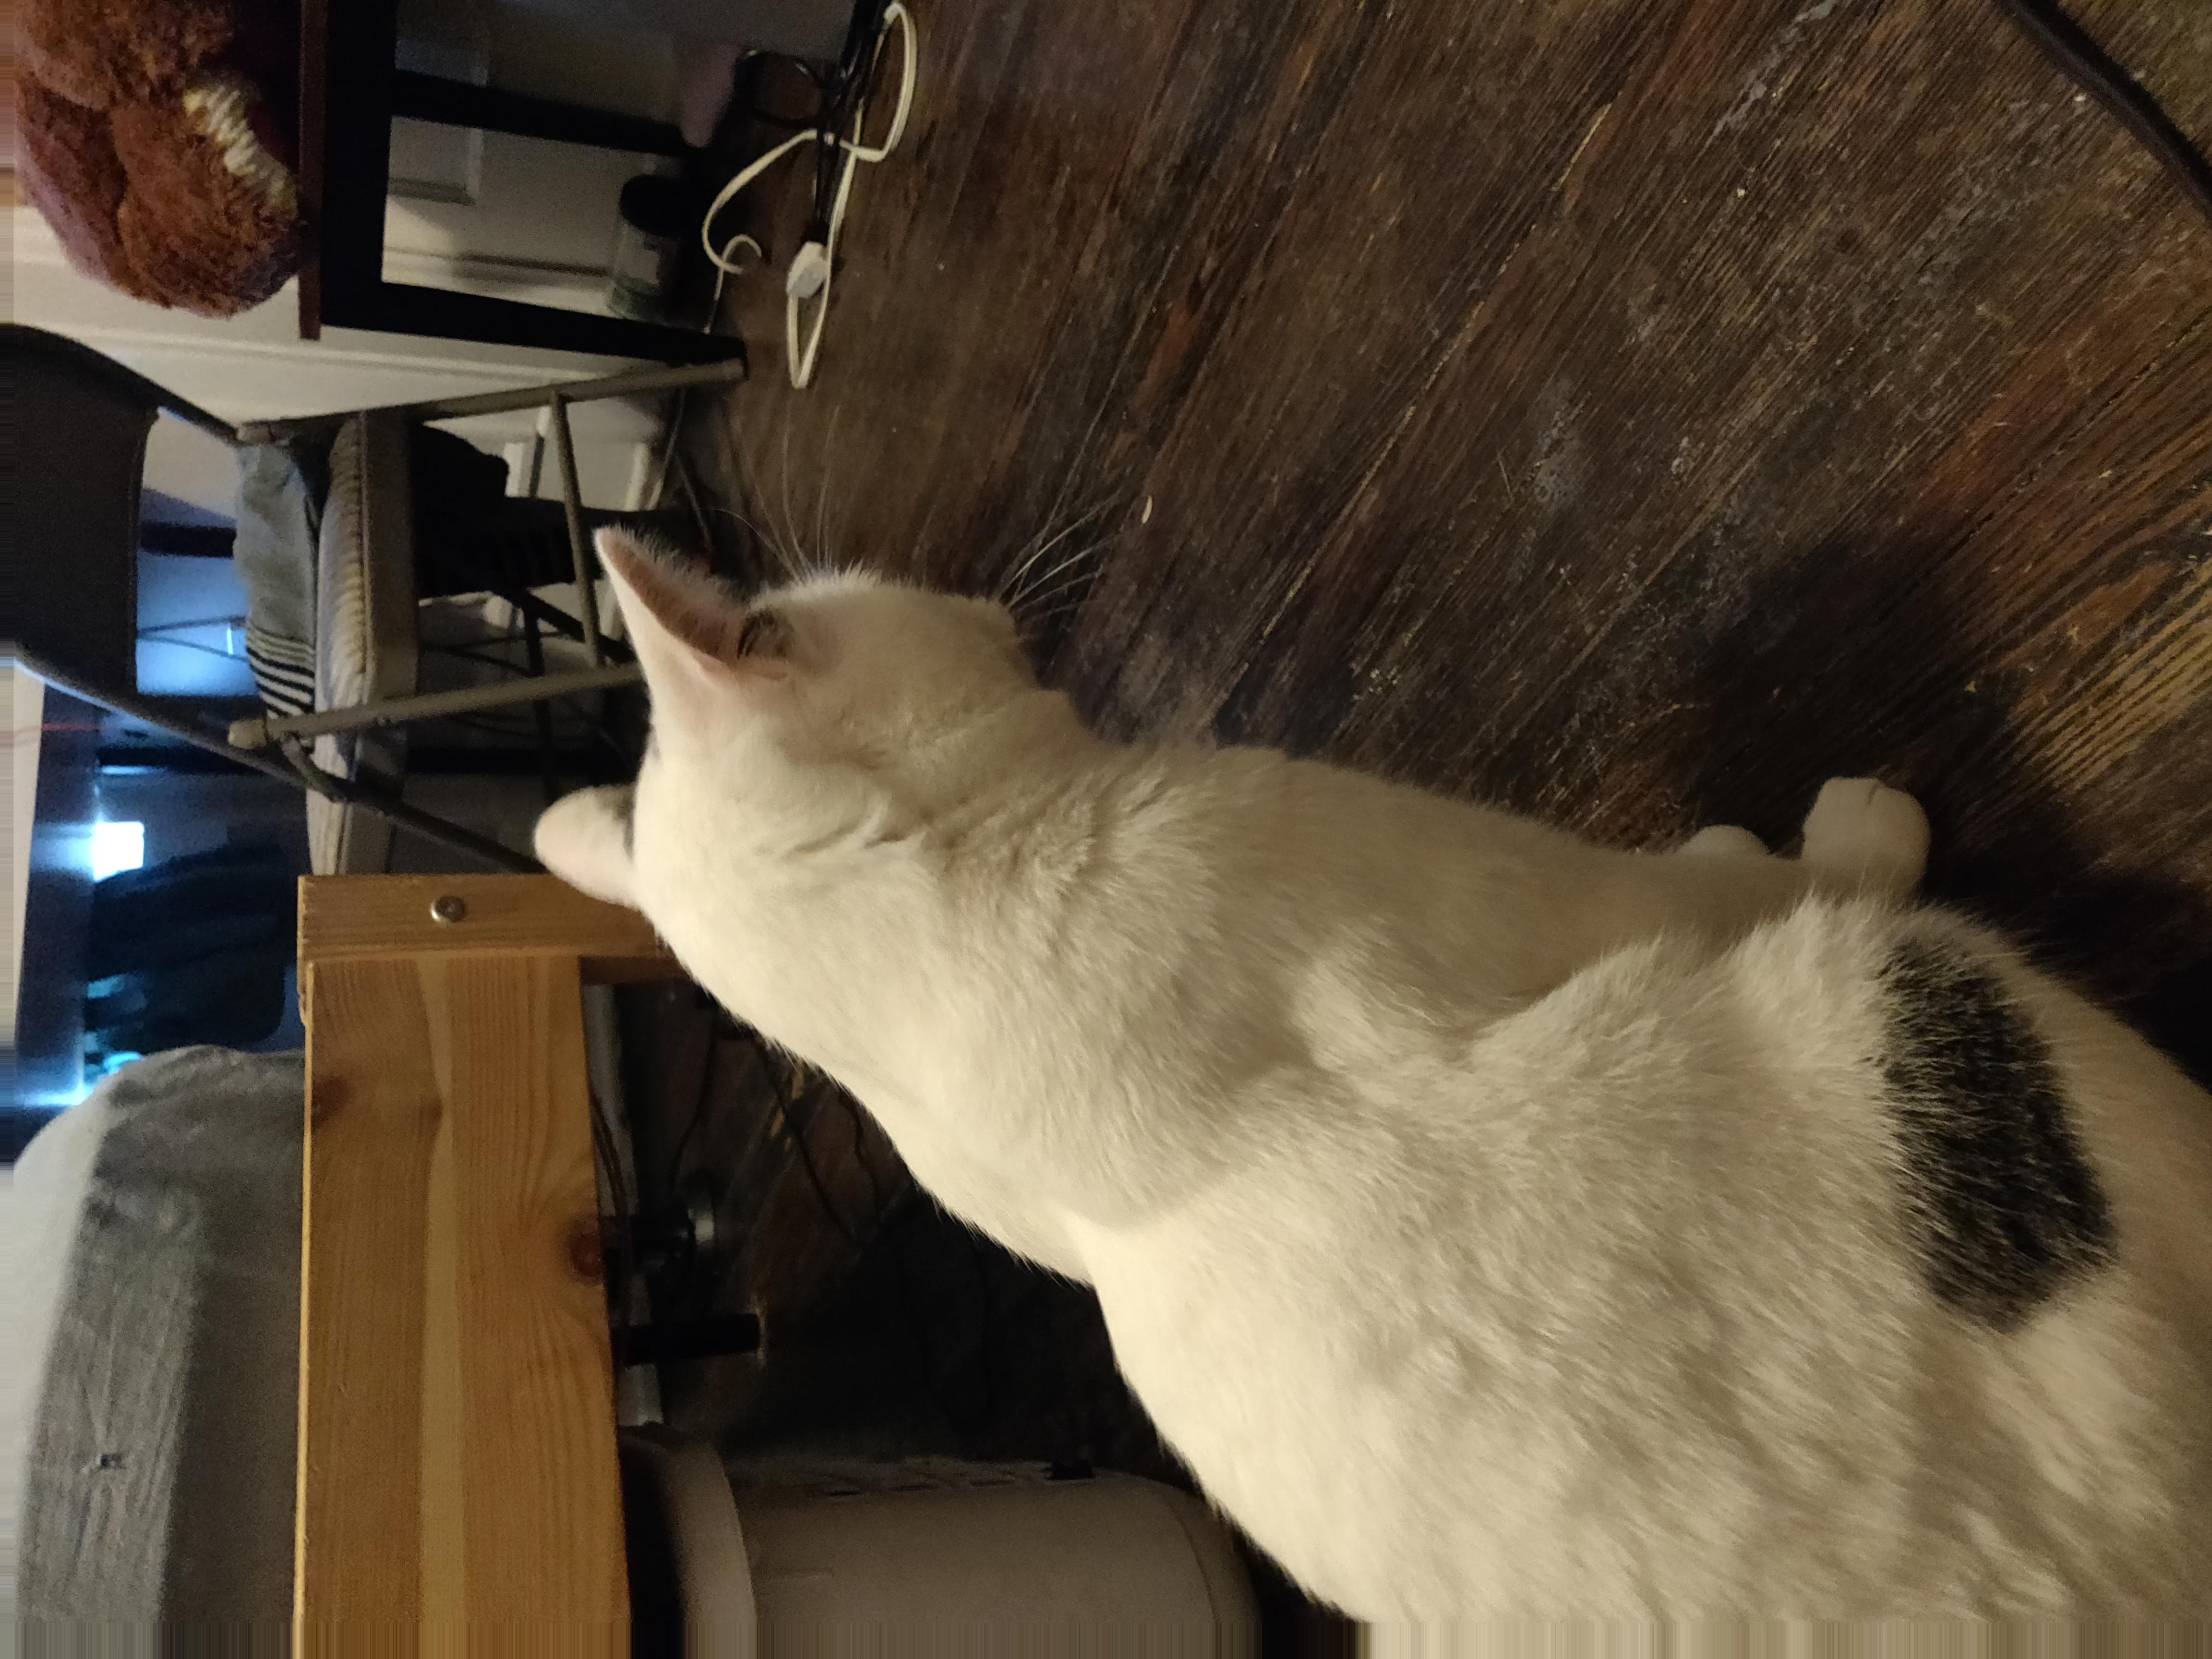cat: (493, 495, 2212, 1659)
